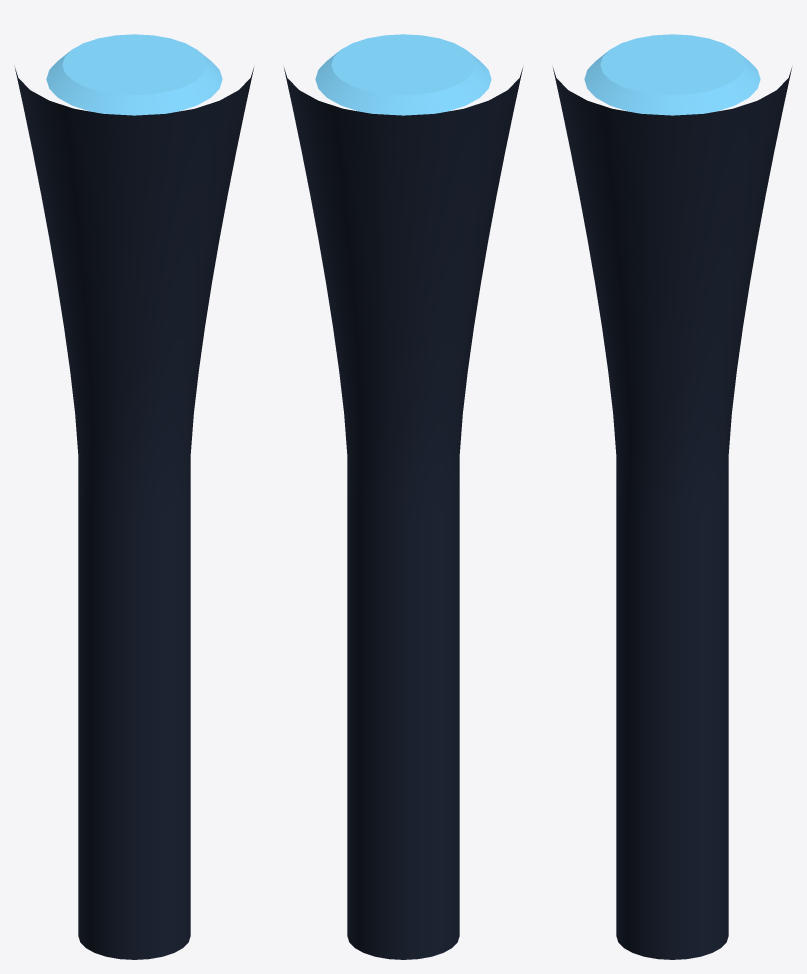
Rendered from walkie.glb.
The picture shows the model from 3 angles, left to right: view 1: azimuth 30°, elevation 25°; view 2: azimuth 150°, elevation 25°; view 3: azimuth 270°, elevation 25°; orthographic projection.
Parts seen in each view (by area): view 1: walkie; view 2: walkie; view 3: walkie.
Part boxes in pixels (left/top/right/bottom): walkie: left=15, top=34, right=253, bottom=959; walkie: left=284, top=34, right=522, bottom=959; walkie: left=553, top=34, right=791, bottom=959.
Size of the model in its own units: 0.539 by 2.16 by 0.539.
